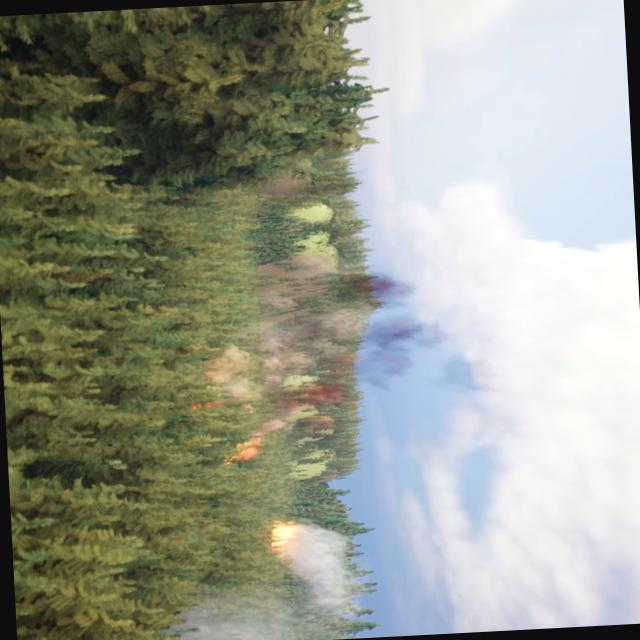fire: (223, 432, 273, 470), (268, 521, 304, 562)
smoke: (212, 266, 496, 430), (162, 521, 358, 640)
